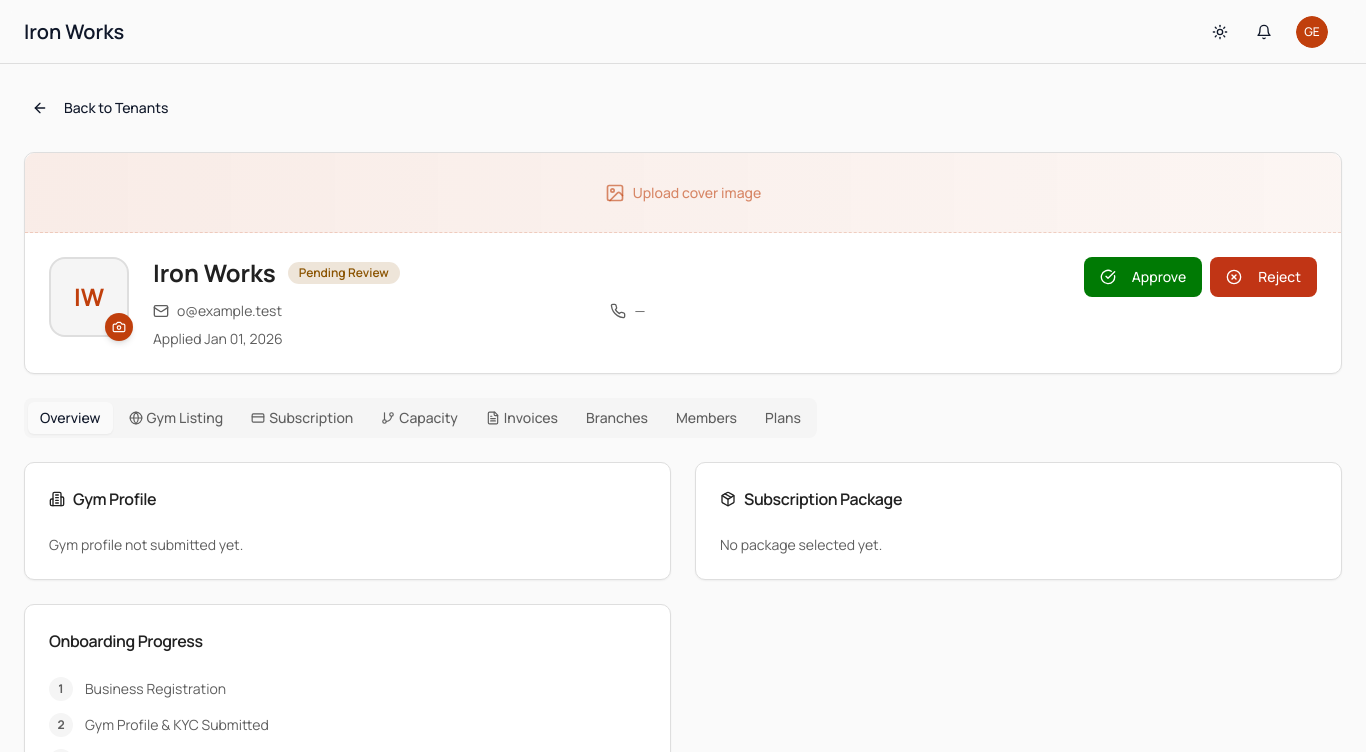
Test: R-84: approve screen photo check › 422 visible_plan_required: plain words for the admin in the dialog, not the host copy
Click the button "Approve": (1143, 277) [1084,257,1202,297]
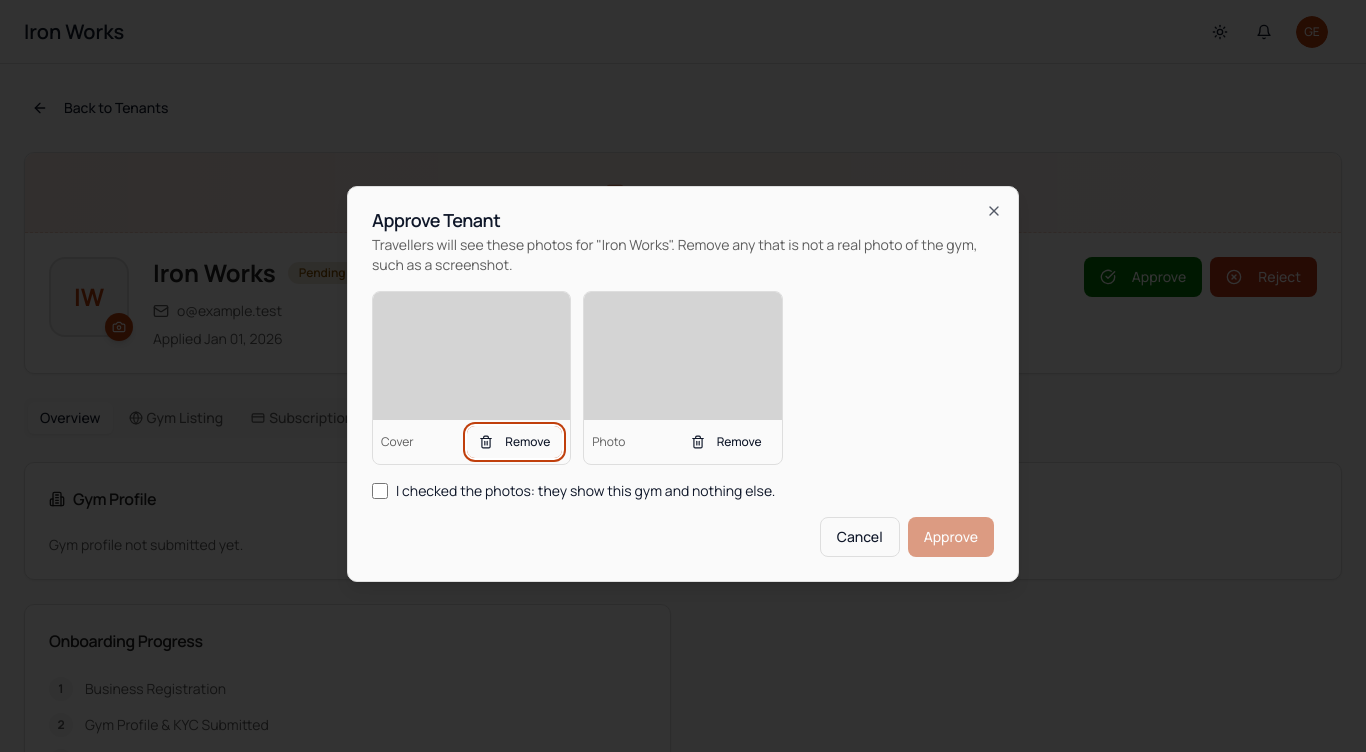
Click the checkbox labelled "I checked the photos: they show this gym and nothing else.": (380, 491) [372,483,388,499]
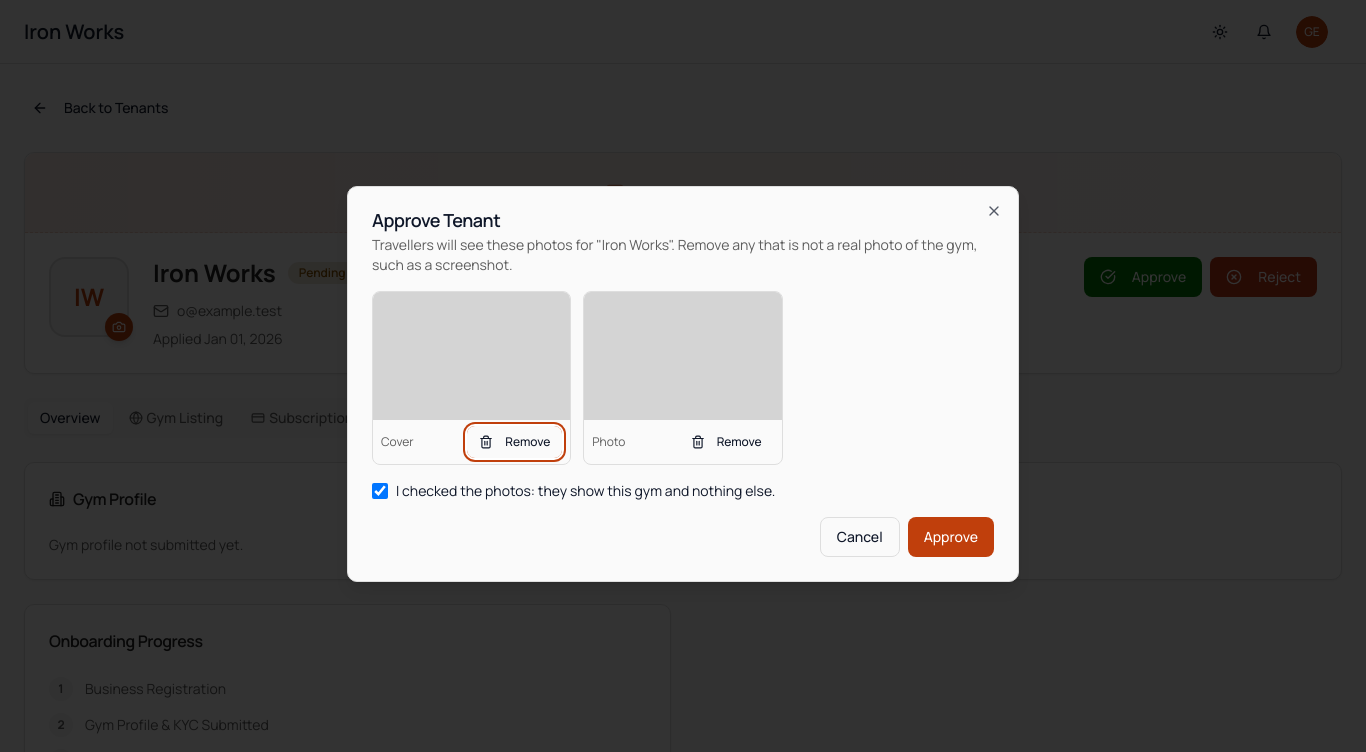
Click the button "Approve": (951, 537) [908,517,994,557]
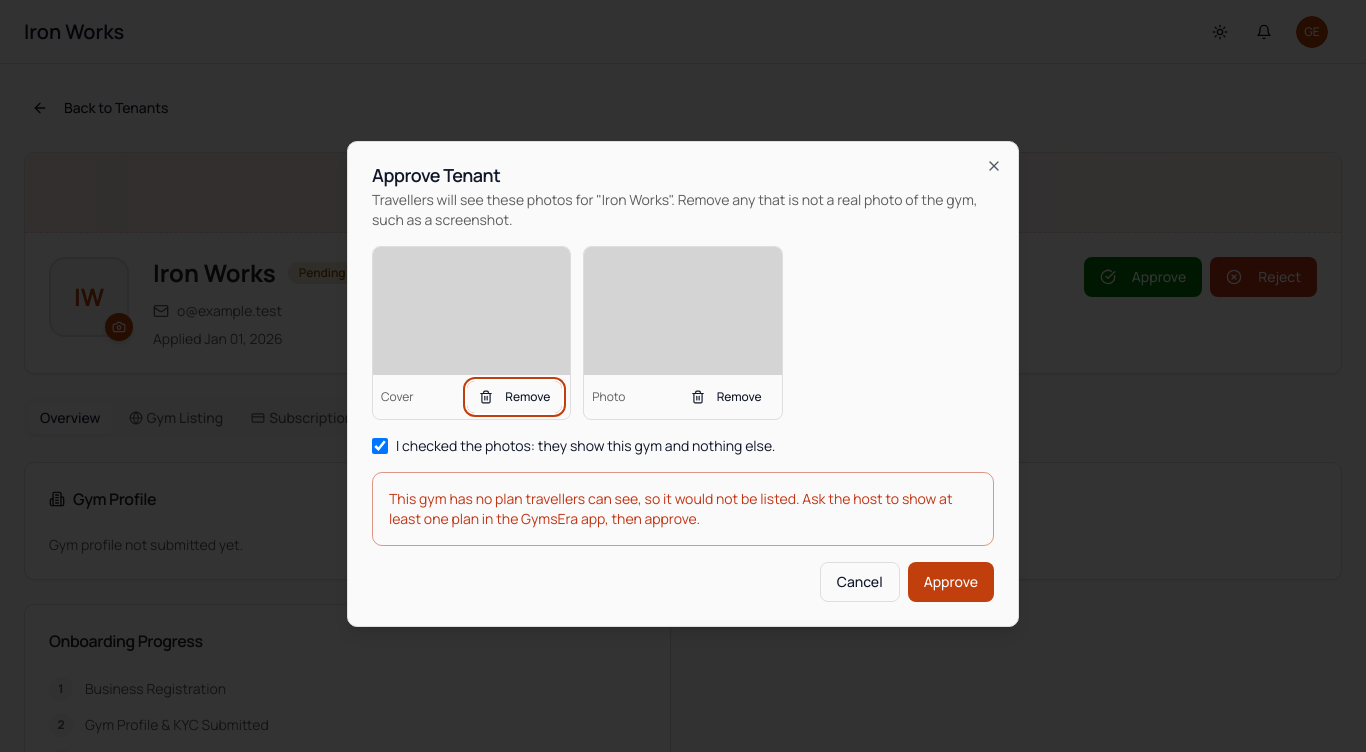
Expected: the message does not show "before you submit", [372,472,994,546]
Expected: the message shows "no plan travellers can see", [389,489,952,528]
Expected: the message shows "Ask the host", [389,489,952,528]
